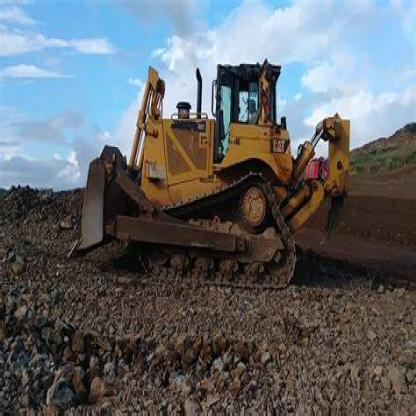bull_dozer/loader/grader: (65, 38, 352, 333)
